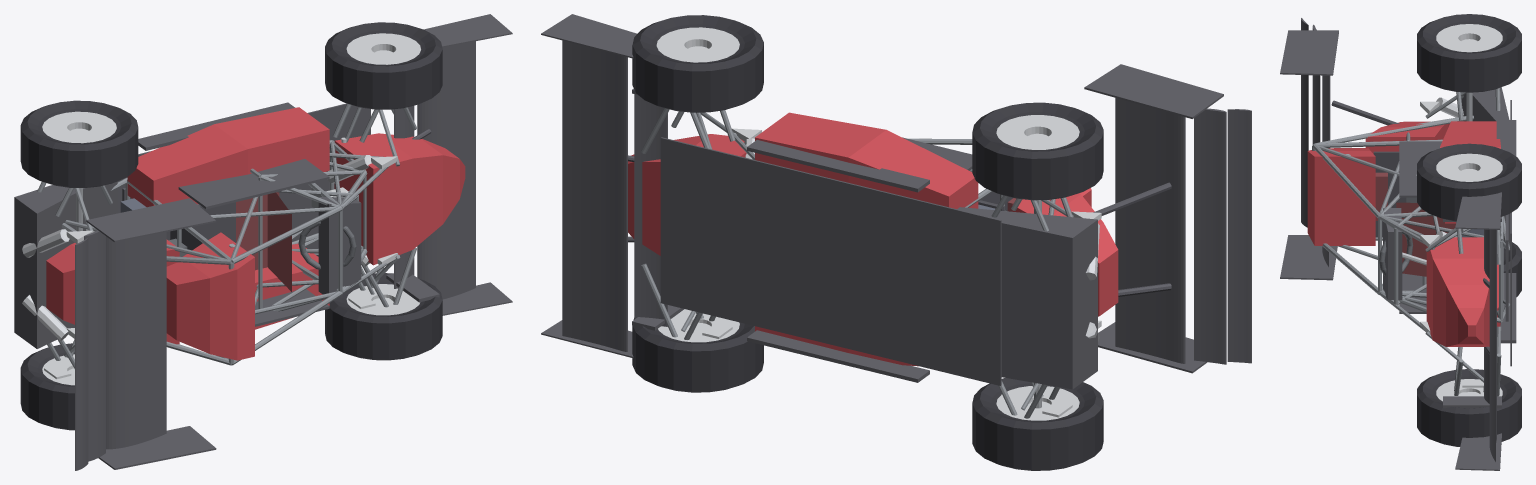
Rendered from car.glb.
The picture shows the model from 3 angles, left to right: view 1: azimuth 30°, elevation 25°; view 2: azimuth 150°, elevation 25°; view 3: azimuth 270°, elevation 25°; orthographic projection. The views are drawn at different scales.
Visible parts, largest first — view 1: aero.rear_wing.main, body.sidepod.left, body.nose, aero.front_wing.main, body.helmet_fairing, wheel.tire.后左, wheel.tire.前左, aero.diffuser, wheel.tire.前右, aero.rear_wing.flap1, body.cockpit_panel.left, wheel.tire.后右 (+26 smaller); view 2: aero.floor, aero.front_wing.main, aero.rear_wing.main, aero.diffuser, body.sidepod.left, wheel.tire.前左, wheel.tire.后左, aero.rear_wing.flap1, wheel.tire.后右, wheel.tire.前右, aero.rear_wing.flap2, aero.front_wing.flap (+12 smaller); view 3: body.nose, body.helmet_fairing, wheel.tire.后左, wheel.tire.前左, wheel.tire.前右, aero.rear_wing.endplate.left, aero.rear_wing.endplate.right, aero.front_wing.main, wheel.rim.后左, wheel.rim.前左, aero.front_wing.endplate.left, cockpit.seat (+30 smaller).
Boxes of the visible parts, left/top/right/bottom form: aero.rear_wing.main: left=106, top=232, right=166, bottom=449; body.sidepod.left: left=127, top=107, right=329, bottom=207; body.nose: left=334, top=133, right=465, bottom=265; aero.front_wing.main: left=417, top=41, right=475, bottom=299; body.helmet_fairing: left=166, top=232, right=254, bottom=360; wheel.tire.后左: left=20, top=100, right=138, bottom=187; wheel.tire.前左: left=325, top=22, right=442, bottom=109; aero.diffuser: left=14, top=181, right=117, bottom=348; wheel.tire.前右: left=325, top=273, right=442, bottom=360; aero.rear_wing.flap1: left=84, top=230, right=105, bottom=461; body.cockpit_panel.left: left=178, top=159, right=329, bottom=209; wheel.tire.后右: left=20, top=343, right=74, bottom=430; aero.floor: left=660, top=137, right=1001, bottom=385; aero.front_wing.main: left=562, top=40, right=627, bottom=351; aero.rear_wing.main: left=1115, top=98, right=1185, bottom=363; aero.diffuser: left=957, top=207, right=1097, bottom=389; body.sidepod.left: left=755, top=112, right=978, bottom=208; wheel.tire.前左: left=632, top=15, right=763, bottom=112; wheel.tire.后左: left=972, top=102, right=1103, bottom=200; aero.rear_wing.flap1: left=1194, top=108, right=1226, bottom=364; wheel.tire.后右: left=972, top=378, right=1103, bottom=470; wheel.tire.前右: left=632, top=318, right=763, bottom=392; aero.rear_wing.flap2: left=1227, top=109, right=1251, bottom=363; aero.front_wing.flap: left=634, top=94, right=667, bottom=326; body.nose: left=1426, top=237, right=1489, bottom=346; body.helmet_fairing: left=1307, top=148, right=1375, bottom=245; wheel.tire.后左: left=1417, top=14, right=1521, bottom=92; wheel.tire.前左: left=1417, top=143, right=1521, bottom=221; wheel.tire.前右: left=1417, top=369, right=1521, bottom=446; aero.rear_wing.endplate.left: left=1280, top=30, right=1338, bottom=75; aero.rear_wing.endplate.right: left=1280, top=235, right=1337, bottom=280; aero.front_wing.main: left=1489, top=229, right=1496, bottom=461; wheel.rim.后左: left=1436, top=24, right=1502, bottom=52; wheel.rim.前左: left=1436, top=153, right=1502, bottom=181; aero.front_wing.endplate.left: left=1455, top=192, right=1501, bottom=229; cockpit.seat: left=1396, top=202, right=1455, bottom=276.
Size of the model in its own units: 2.68 by 1.43 by 1.19.
